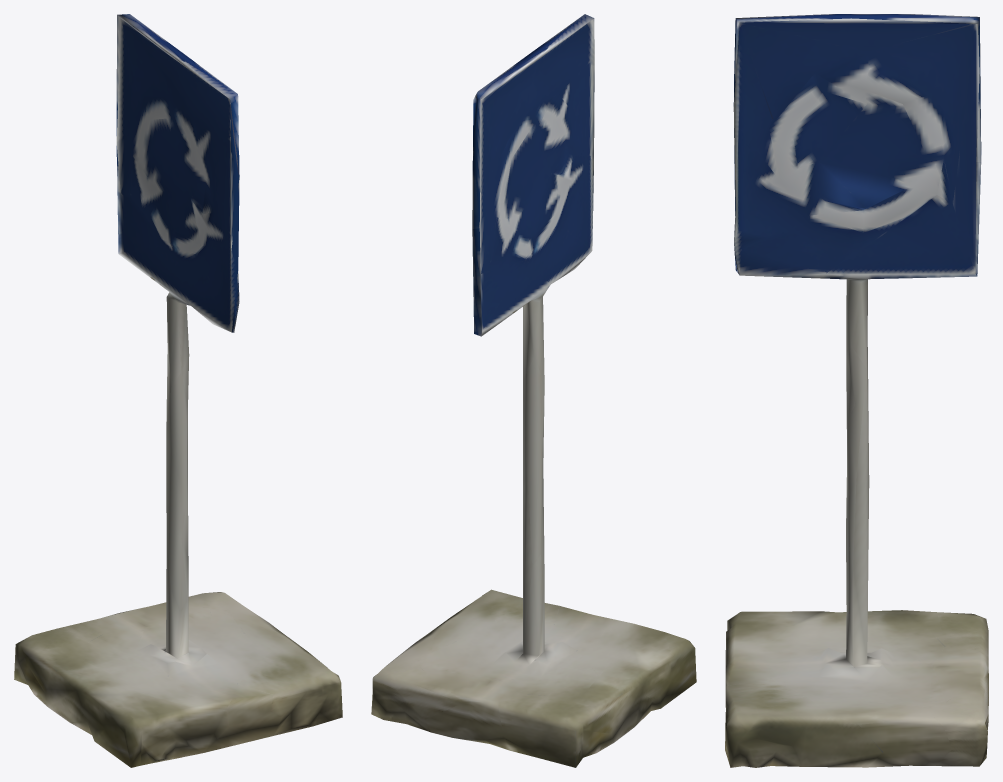
Rendered from rambu_berputar.glb.
The picture shows the model from 3 angles, left to right: view 1: azimuth 30°, elevation 25°; view 2: azimuth 150°, elevation 25°; view 3: azimuth 270°, elevation 25°; orthographic projection. The views are drawn at different scales.
Parts seen in each view (by area): view 1: tripo_node_a61985e5; view 2: tripo_node_a61985e5; view 3: tripo_node_a61985e5.
Boxes of the visible parts, box(x1,y1,x2,y2) form: tripo_node_a61985e5: box(14, 14, 342, 767); tripo_node_a61985e5: box(371, 14, 696, 767); tripo_node_a61985e5: box(725, 14, 988, 767).
Bounding box in the file's own units: 34.64 × 99.94 × 34.33.
Materials: 1 (1 with a texture image).
